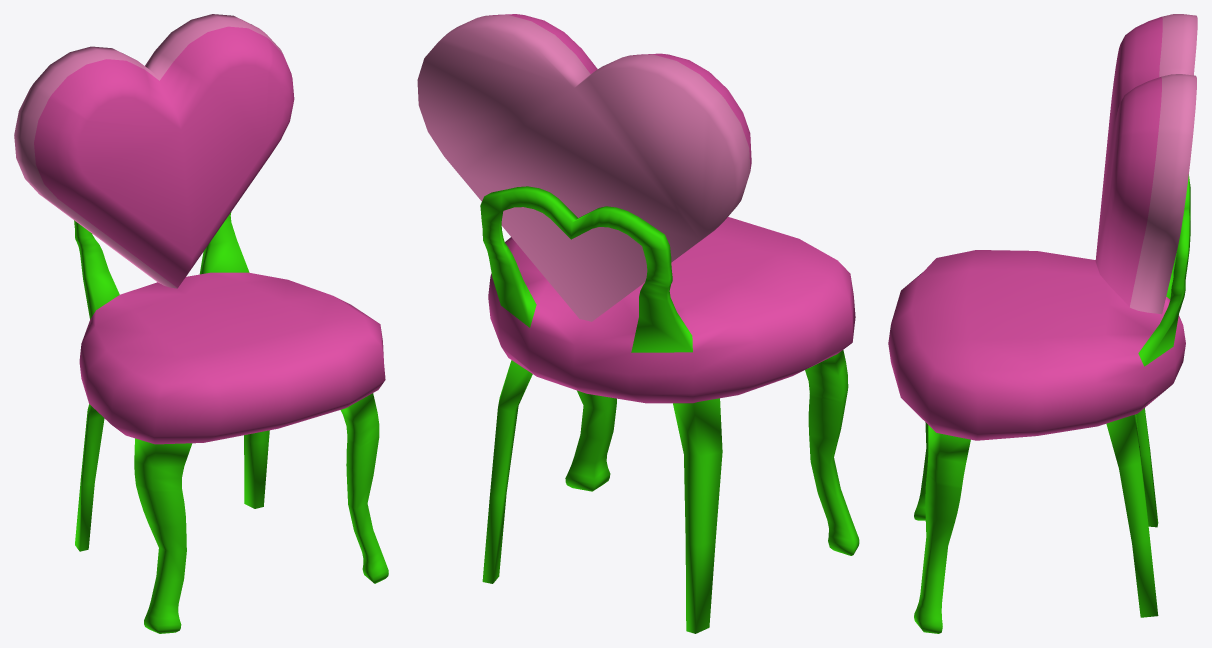
Rendered from HeartChair.fbx.
3 renders of one model, left to right at view 1: azimuth 30°, elevation 25°; view 2: azimuth 150°, elevation 25°; view 3: azimuth 270°, elevation 25°, orthographic. The views are drawn at different scales.
Visible parts, largest first — view 1: HeartChair; view 2: HeartChair; view 3: HeartChair.
Part boxes in pixels (left/top/right/bottom): HeartChair: left=14, top=14, right=388, bottom=633; HeartChair: left=417, top=14, right=859, bottom=633; HeartChair: left=888, top=14, right=1197, bottom=633.
Bounding box in the file's own units: 0.6891 × 1.18 × 0.6334.
